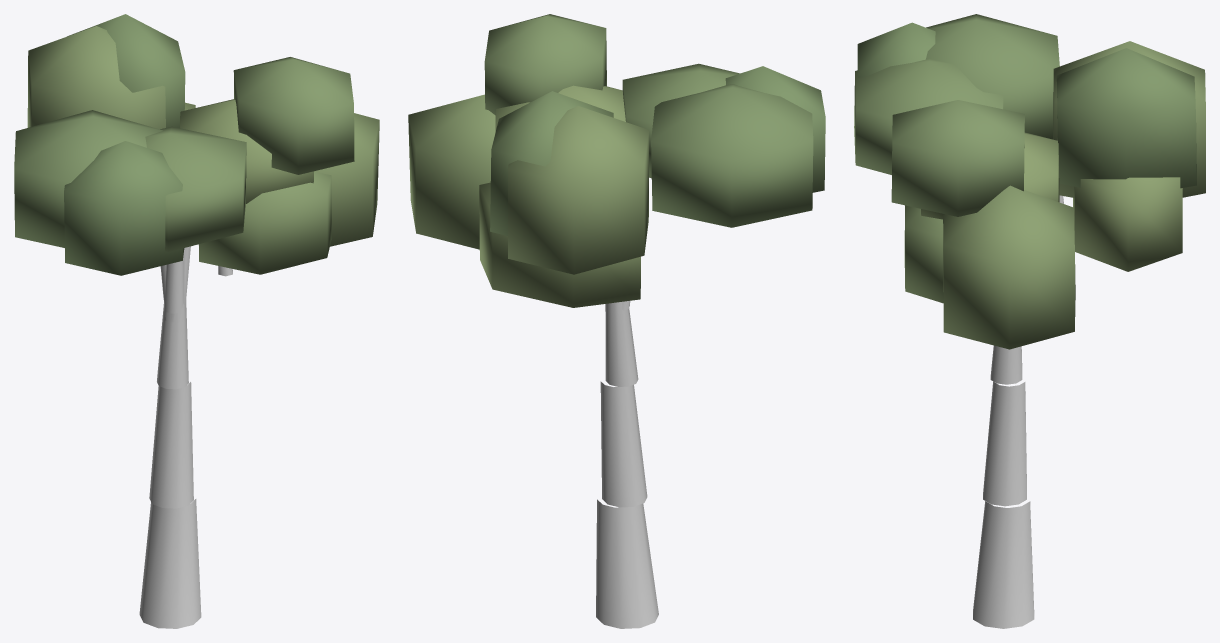
File: oak_v1_mid.gltf
3 views of the same model, side by side, from view 1: azimuth 30°, elevation 25°; view 2: azimuth 150°, elevation 25°; view 3: azimuth 270°, elevation 25° (orthographic). The views are drawn at different scales.
Parts seen in each view (by area): view 1: foliage, bark; view 2: foliage, bark; view 3: foliage, bark.
Part boxes in pixels (x1=…): foliage: x1=14, y1=14, x2=379, y2=275; bark: x1=139, y1=246, x2=232, y2=628; foliage: x1=408, y1=14, x2=825, y2=307; bark: x1=596, y1=301, x2=658, y2=628; foliage: x1=854, y1=14, x2=1205, y2=349; bark: x1=973, y1=195, x2=1063, y2=628.
Bounding box in the file's own units: 3.68 × 5.12 × 2.84.
